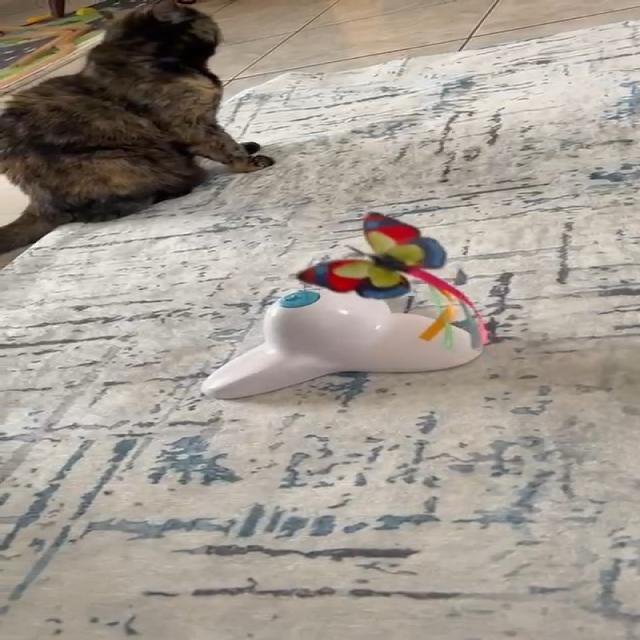authorized: (0, 0, 274, 254)
